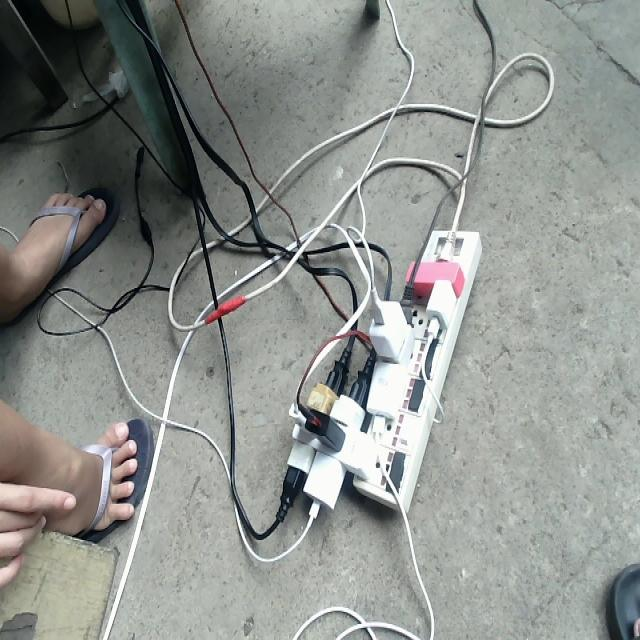-: (282, 228, 481, 513)
